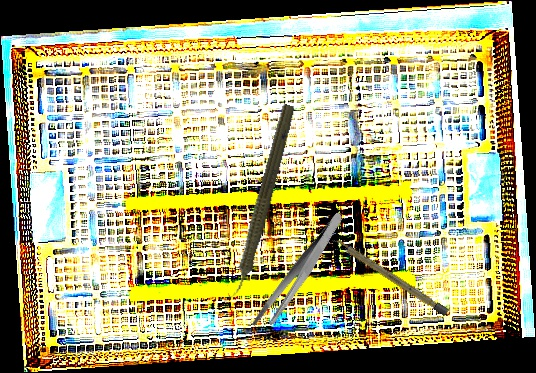Dressing Forceps: (231, 211, 368, 335)
Handpiece: (221, 101, 299, 309)
Scalpel Handle: (330, 235, 450, 317)
